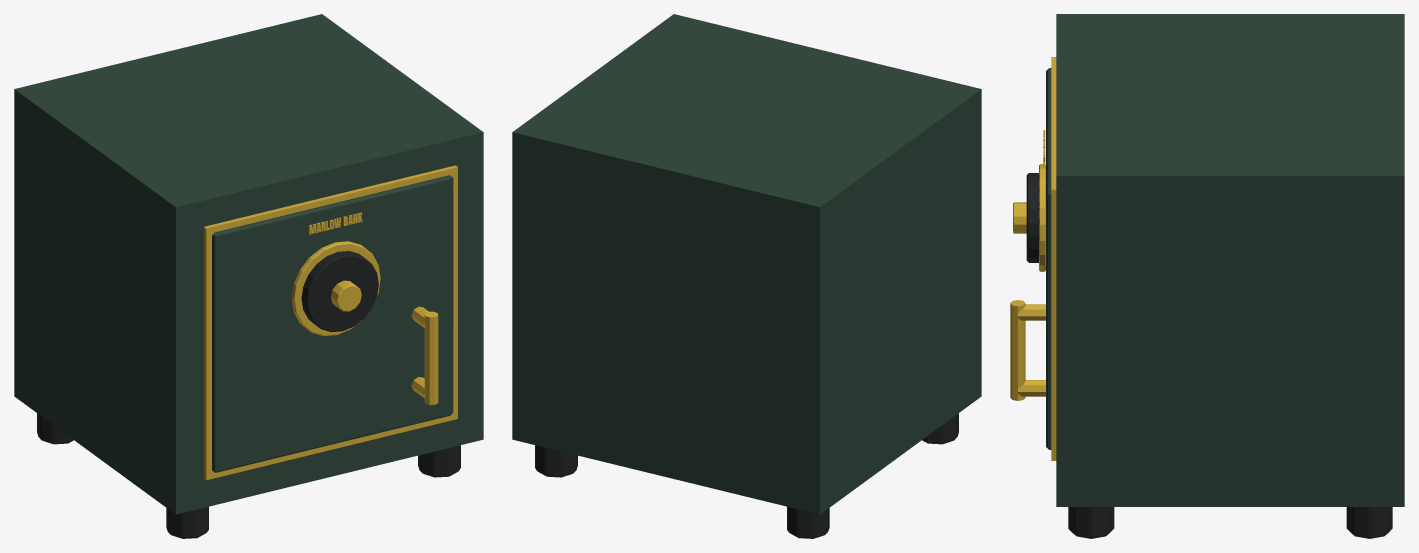
File: FindSafe.glb
3 views of the same model, side by side, from view 1: azimuth 30°, elevation 25°; view 2: azimuth 150°, elevation 25°; view 3: azimuth 270°, elevation 25° (orthographic). The views are drawn at different scales.
Parts seen in each view (by area): view 1: Safe_1.001; view 2: Safe_1.001; view 3: Safe_1.001.
Part boxes in pixels (left/top/right/bottom): Safe_1.001: left=14, top=14, right=483, bottom=538; Safe_1.001: left=512, top=14, right=981, bottom=538; Safe_1.001: left=1010, top=14, right=1404, bottom=538.
Size of the model in its own units: 1.1 by 1.17 by 1.13.
